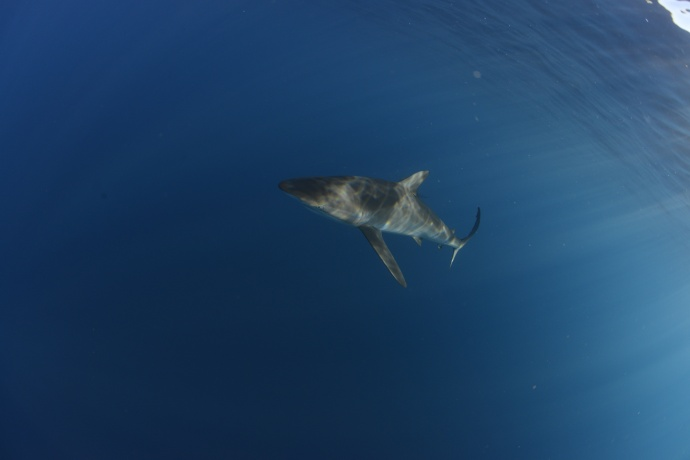Sedoso: (276, 164, 493, 290)
